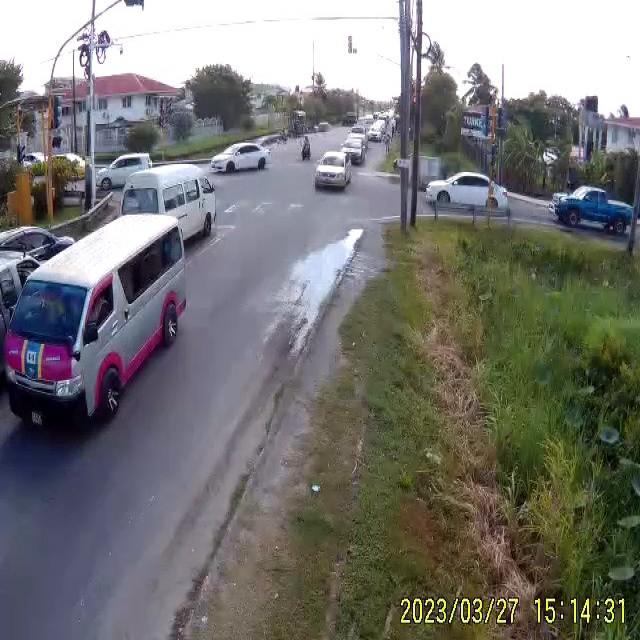car: (5, 211, 192, 428), (118, 166, 215, 246), (554, 190, 631, 233), (426, 172, 509, 210), (97, 154, 155, 192), (210, 144, 269, 174), (314, 152, 352, 192), (342, 135, 367, 166)
motorbike: (297, 134, 312, 162)
